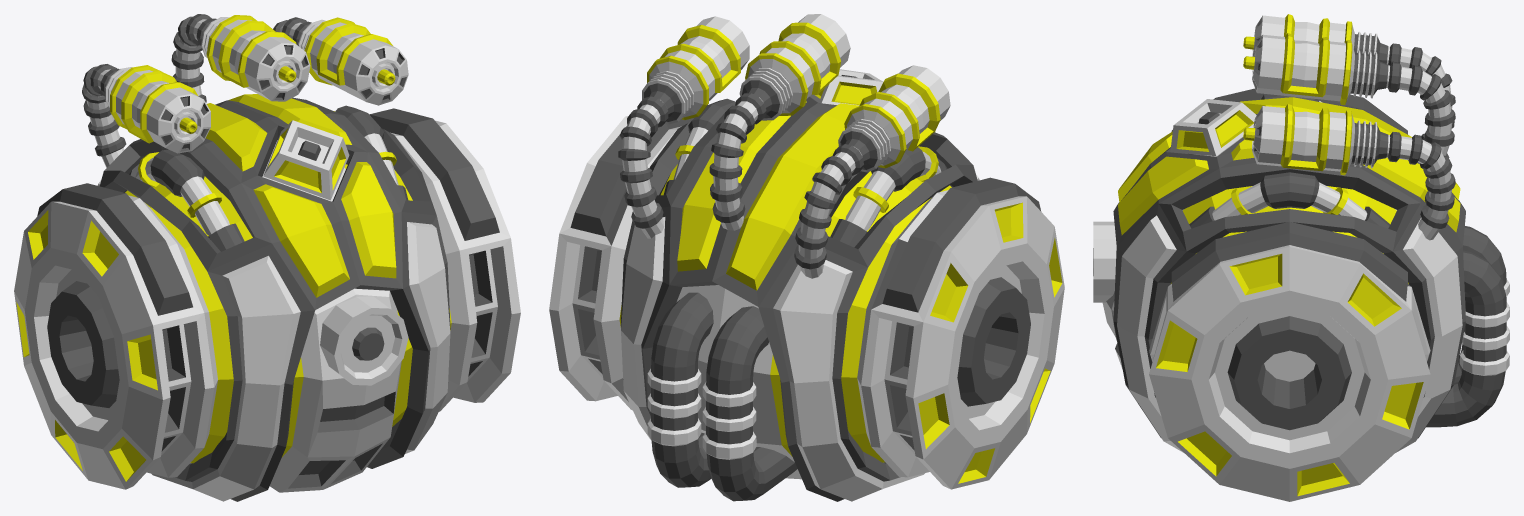
Rendered from mid_tower3_3.fbx.
3 views of the same model, side by side, from view 1: azimuth 30°, elevation 25°; view 2: azimuth 150°, elevation 25°; view 3: azimuth 270°, elevation 25° (orthographic). The views are drawn at different scales.
Visible parts, largest first — view 1: polySurface133; view 2: polySurface133; view 3: polySurface133.
Boxes of the visible parts, x1,y1,x2,y2 form: polySurface133: (14,14,520,501); polySurface133: (549,14,1064,501); polySurface133: (1093,14,1509,501).
Bounding box in the file's own units: 0.8987 × 0.9873 × 0.8992.
